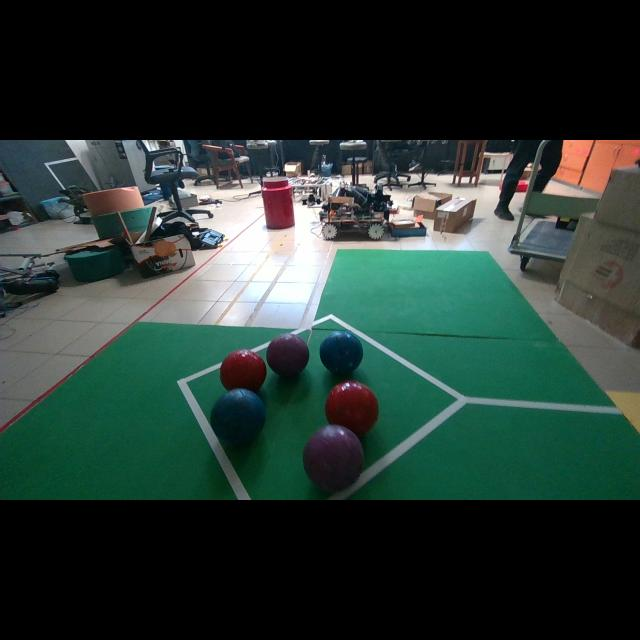B: (210, 389, 266, 446), (320, 330, 364, 374)
P: (302, 425, 364, 492), (266, 334, 309, 378)
R: (326, 380, 378, 435), (221, 349, 266, 392)
